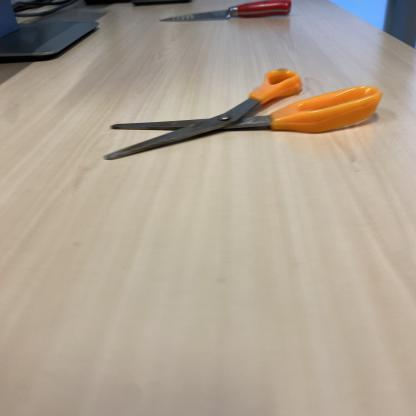Knife: (161, 0, 293, 28)
scissors: (102, 60, 385, 163)
